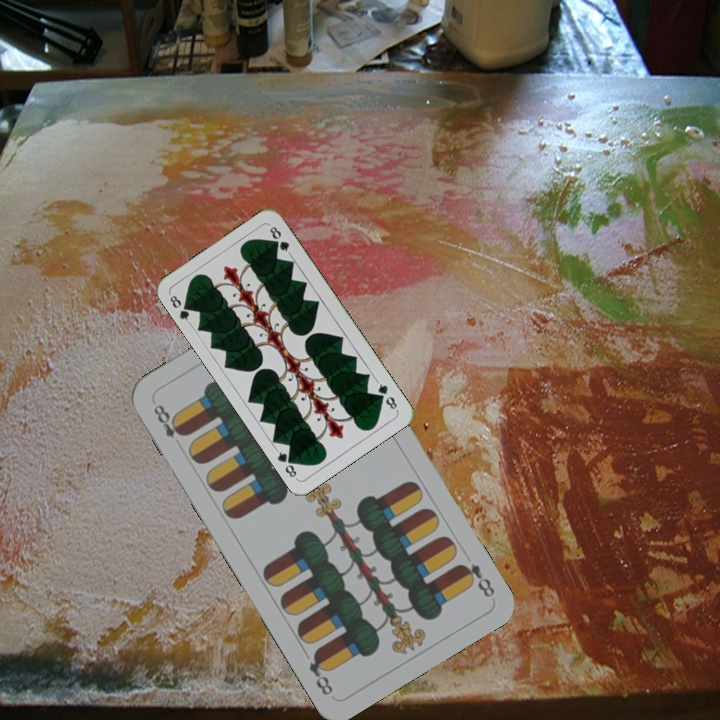E8: (454, 559, 498, 601), (149, 400, 189, 442)
G8: (165, 291, 194, 327), (372, 377, 400, 413)
